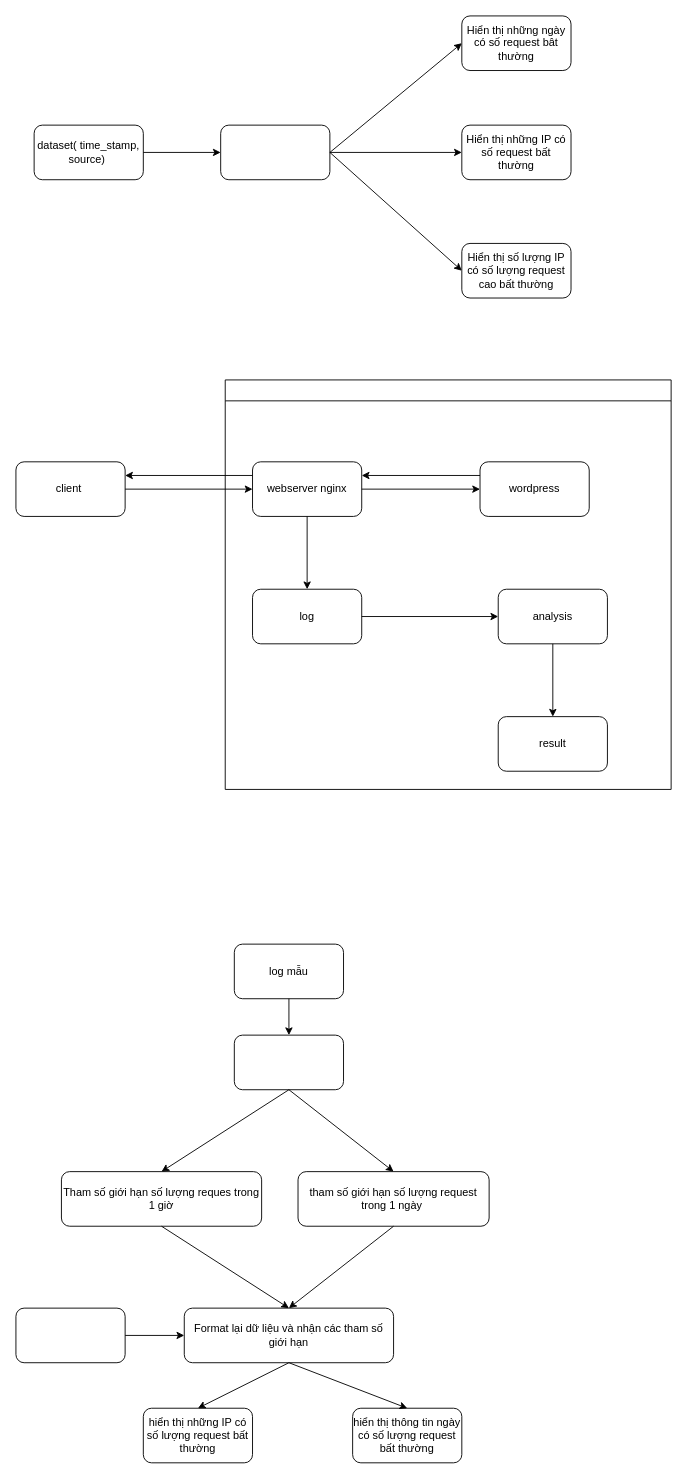
Image size: 687x1479. Some labels were removed from this diagram. Each missing label, with the centre of its shape:
log ghi nhận: (x=70, y=1335)
Phân tích dữ liệu: (x=275, y=152)
Server: (x=447, y=584)
Tìm Phân phối phù hợp: (x=288, y=1062)
